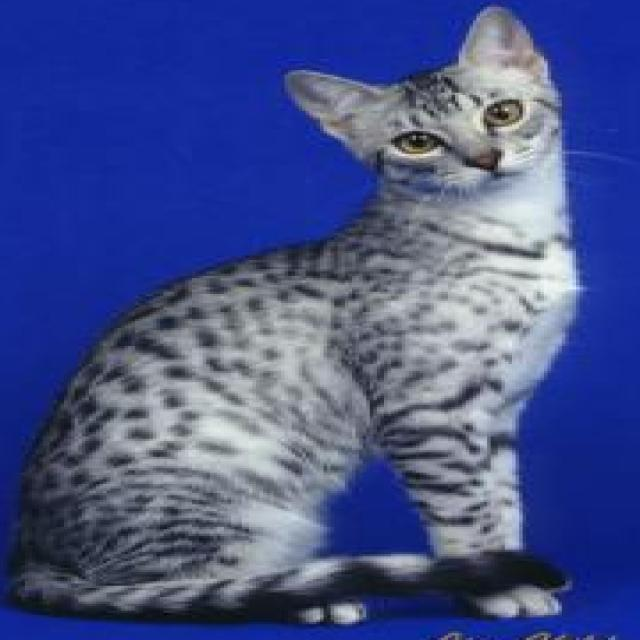Egyptian Mau: (0, 0, 597, 631)
